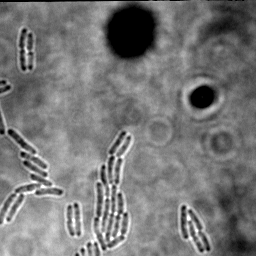Dividing: (187, 209, 211, 252), (186, 220, 206, 254), (17, 26, 29, 74), (72, 203, 83, 237), (65, 204, 75, 238), (26, 31, 34, 73)
Microcolony: (73, 130, 135, 255), (1, 126, 65, 226)
Rod: (179, 203, 189, 240)
